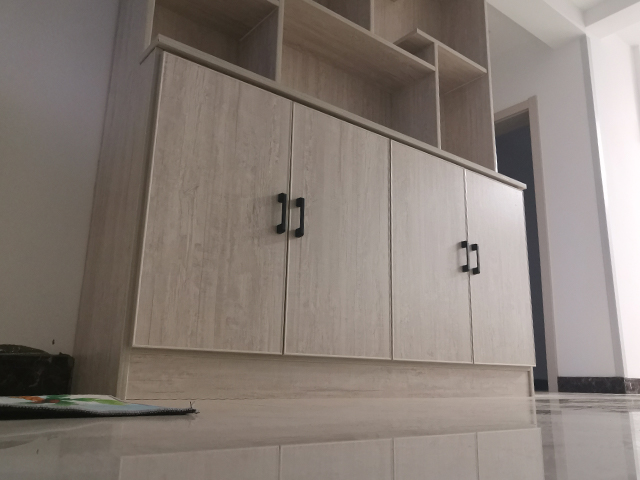cabinet: (114, 37, 540, 403)
carpet: (1, 391, 201, 421)
